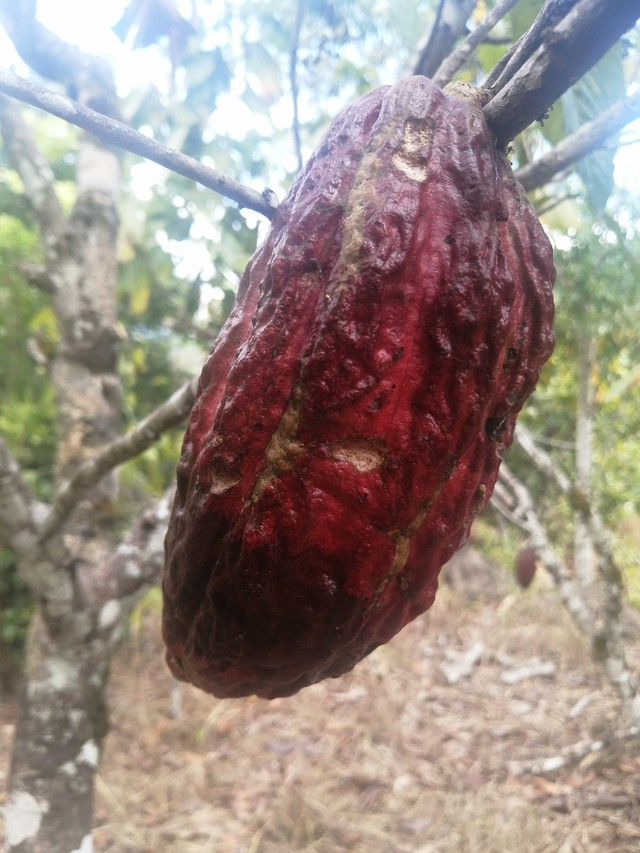phytophthora palmivora: (132, 63, 564, 704)
